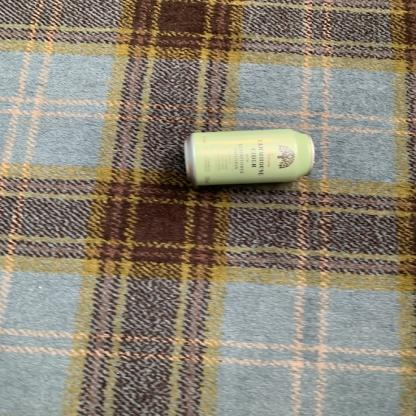trash: (183, 130, 318, 184)
